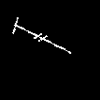treble_crochet: (12, 18, 70, 53)
